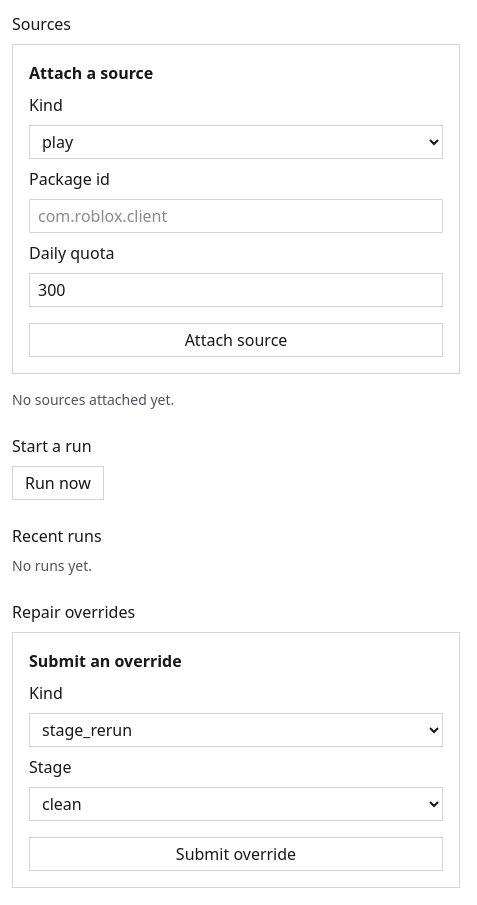
Test case: starting a run with no enabled source › shows the refusal as text rather than losing the click
Step 1. Click the button "Run now" → (58,483), box [12,466,104,500]
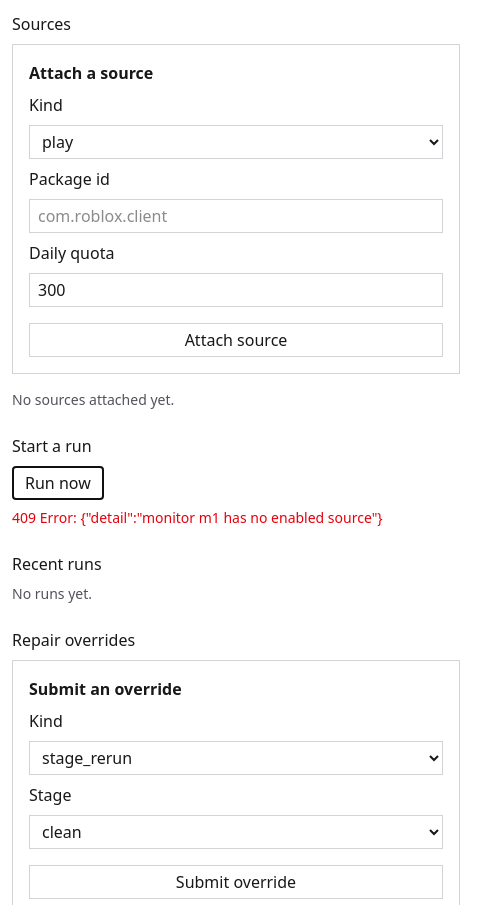
Now the message shows "has no enabled source", box [12,508,383,527]
